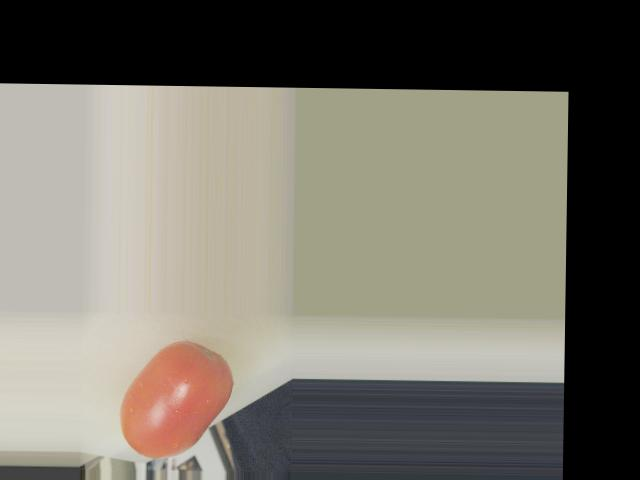tomato: (119, 340, 233, 459)
